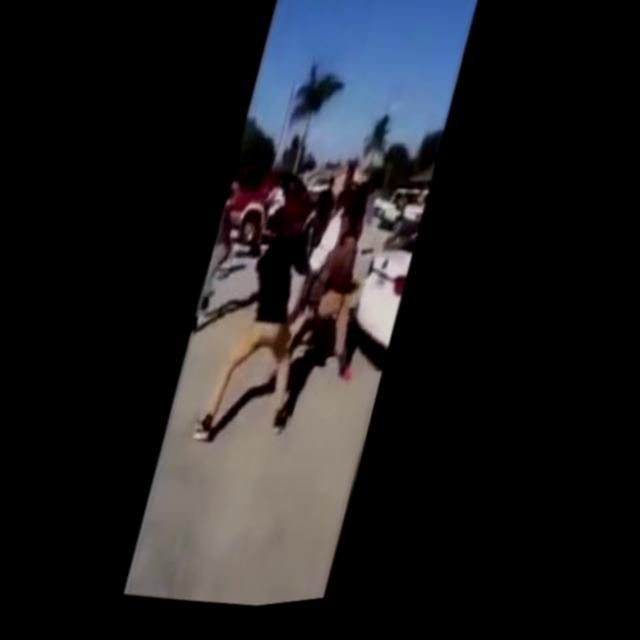fight: (196, 182, 381, 472)
